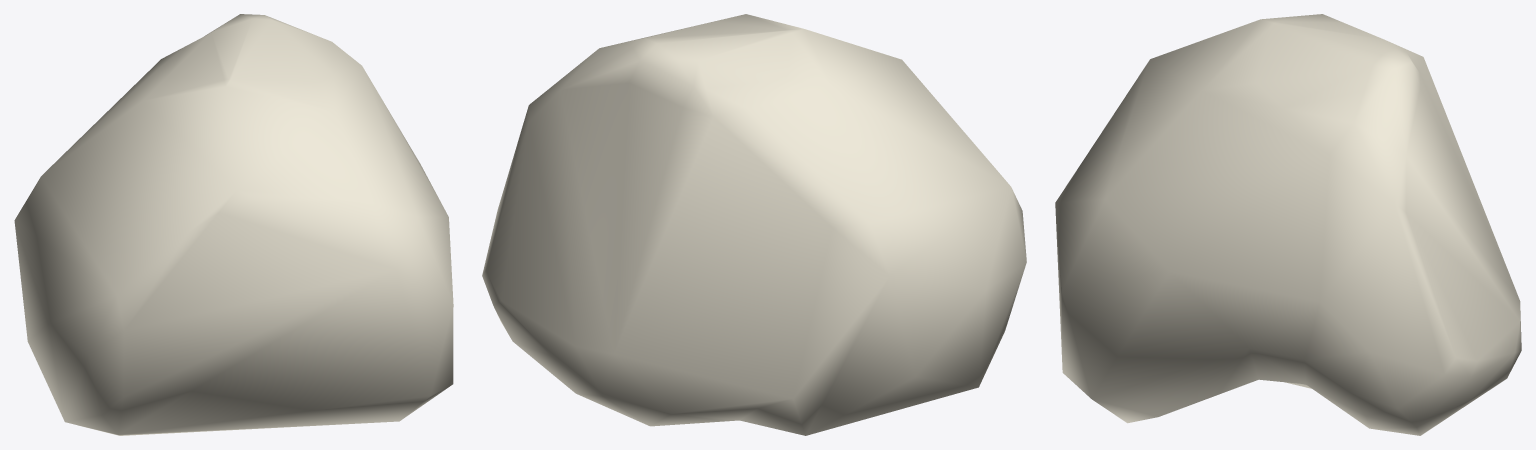
The picture shows the model from 3 angles, left to right: view 1: azimuth 30°, elevation 25°; view 2: azimuth 150°, elevation 25°; view 3: azimuth 270°, elevation 25°; orthographic projection. The views are drawn at different scales.
Visible parts, largest first — view 1: ZA_ef3fdc0d337bebaf; view 2: ZA_ef3fdc0d337bebaf; view 3: ZA_ef3fdc0d337bebaf.
Part boxes in pixels (<box>): ZA_ef3fdc0d337bebaf: <box>14,14,453,435</box>; ZA_ef3fdc0d337bebaf: <box>482,14,1026,435</box>; ZA_ef3fdc0d337bebaf: <box>1055,14,1521,435</box>.
Size of the model in its own units: 0.0086 by 0.0066 by 0.00779.
